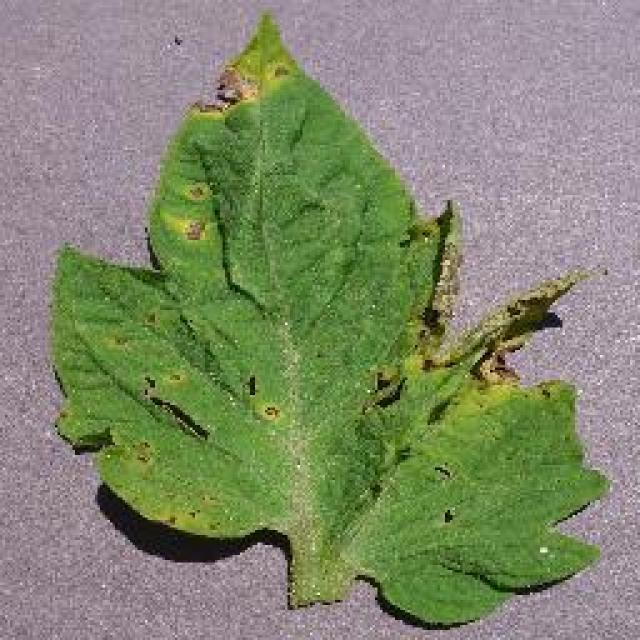Tomato Septoria spot leaf: (40, 11, 616, 626)
